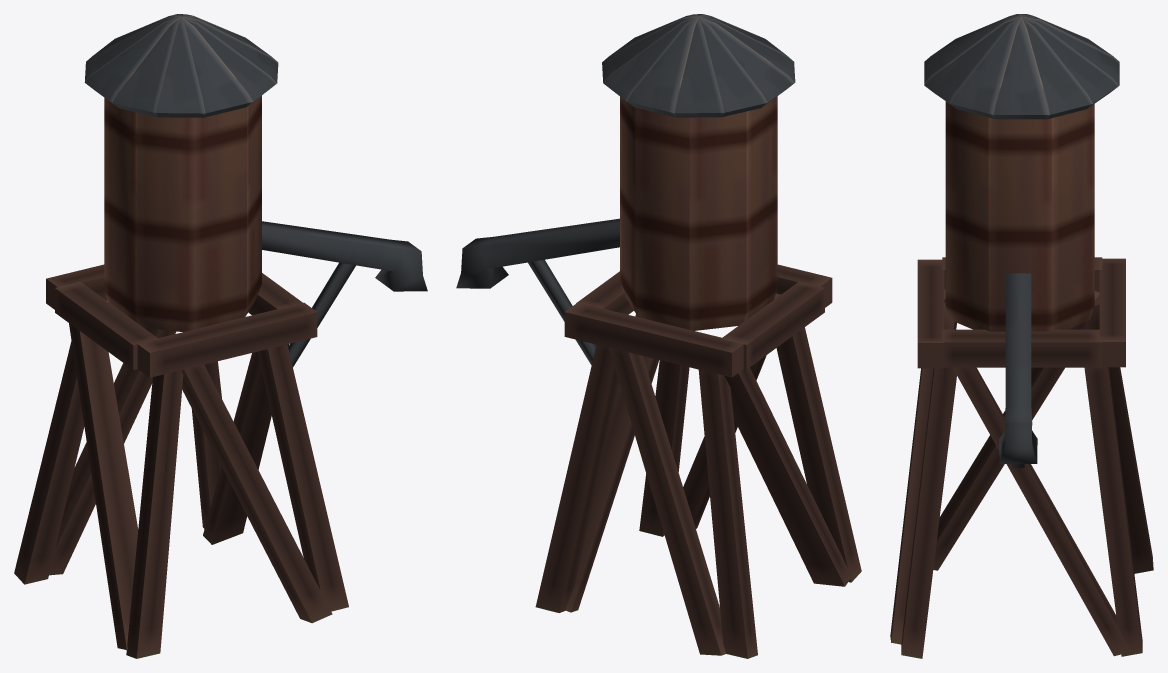
Rendered from water_tower_v008.fbx.
3 views of the same model, side by side, from view 1: azimuth 30°, elevation 25°; view 2: azimuth 150°, elevation 25°; view 3: azimuth 270°, elevation 25° (orthographic). The views are drawn at different scales.
Visible parts, largest first — view 1: water_tower_v008; view 2: water_tower_v008; view 3: water_tower_v008.
Part boxes in pixels (bbox=[...]): water_tower_v008: bbox=[14, 14, 427, 658]; water_tower_v008: bbox=[456, 14, 861, 658]; water_tower_v008: bbox=[890, 14, 1153, 658].
Bounding box in the file's own units: 683 × 1101 × 445.
